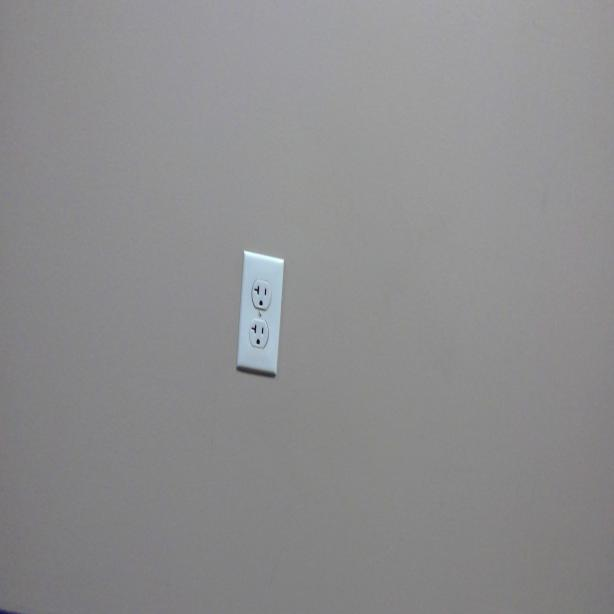typeb: (252, 279, 270, 308), (250, 319, 267, 346)
